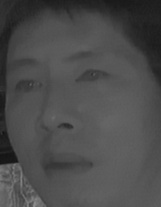eye: (74, 65, 112, 87), (11, 76, 46, 98)
mouth: (35, 147, 96, 182)
